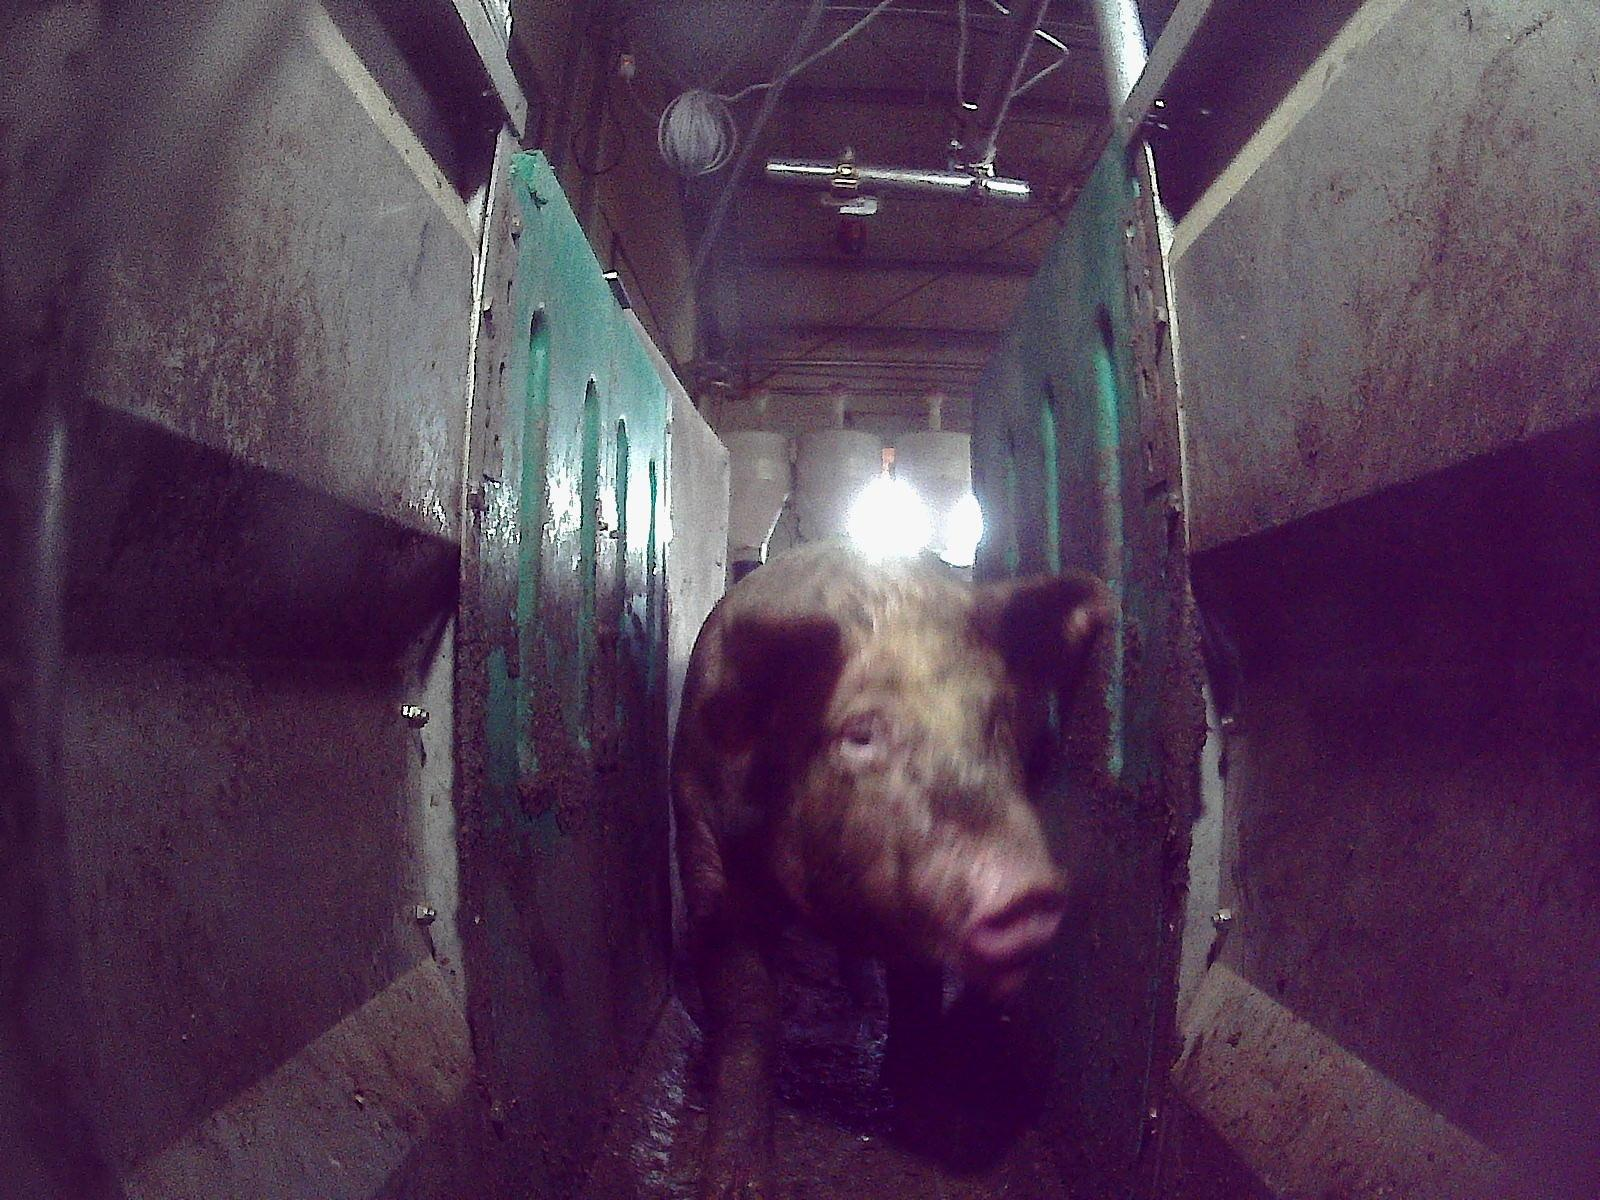Face: (764, 614, 1062, 991)
